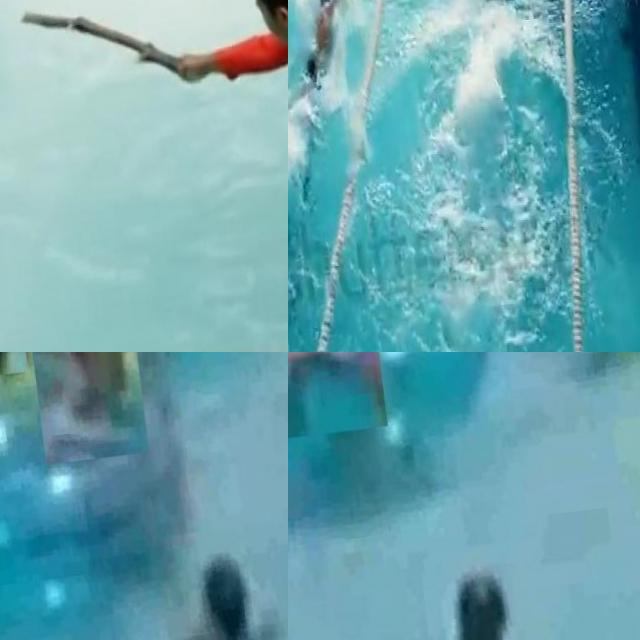drowning: (424, 556, 577, 640), (192, 534, 280, 640)
out of water: (0, 0, 288, 183)
swimming: (28, 352, 150, 465), (288, 352, 389, 444), (288, 0, 367, 78), (445, 0, 531, 50)
